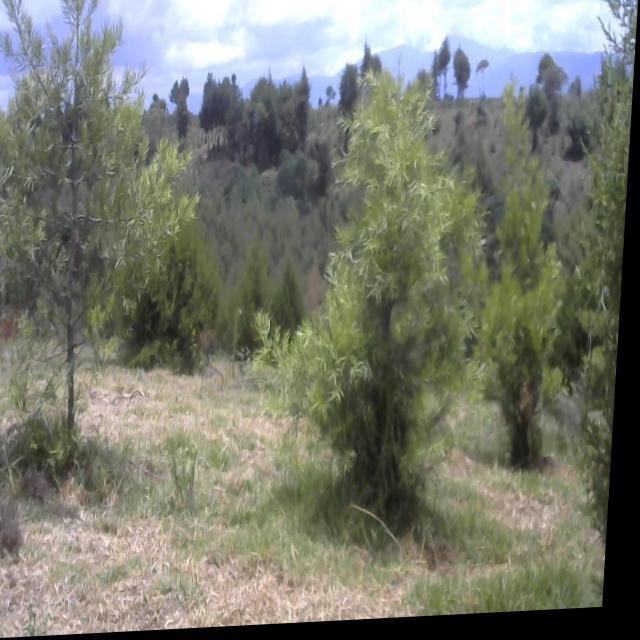Podocarpus falcatus: (243, 65, 496, 593), (0, 0, 209, 441), (470, 152, 580, 481)
cedrus: (125, 207, 229, 369), (236, 242, 273, 367), (428, 32, 456, 101), (360, 39, 389, 102), (457, 47, 477, 100)
other: (265, 192, 317, 332), (296, 324, 311, 330)
